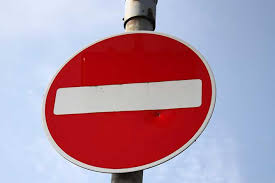No_entry: (42, 29, 217, 174)
